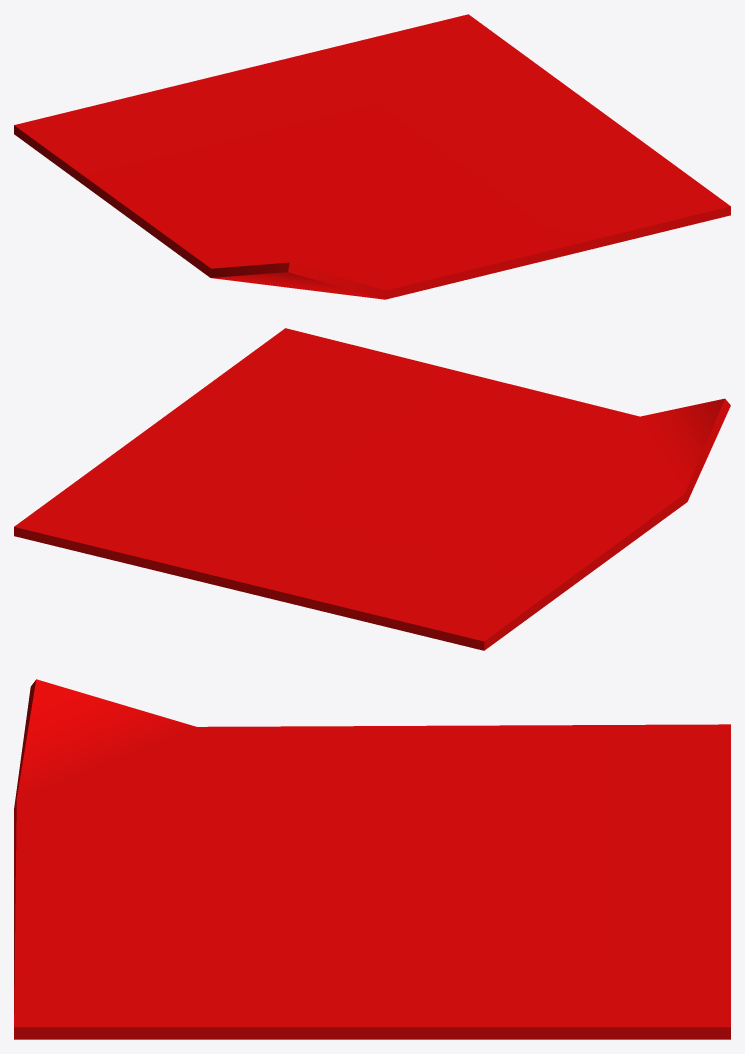
Rendered from Asset_NumbersNote.glb.
3 views of the same model, one above another, from view 1: azimuth 30°, elevation 25°; view 2: azimuth 150°, elevation 25°; view 3: azimuth 270°, elevation 25° (orthographic). The views are drawn at different scales.
Parts seen in each view (by area): view 1: Asset_NumbersNote; view 2: Asset_NumbersNote; view 3: Asset_NumbersNote.
Part boxes in pixels (x1,y1,x2,y2): Asset_NumbersNote: [14, 14, 730, 299]; Asset_NumbersNote: [14, 328, 730, 650]; Asset_NumbersNote: [14, 679, 730, 1039].
Size of the model in its own units: 0.4055 by 0.0448 by 0.4055.
